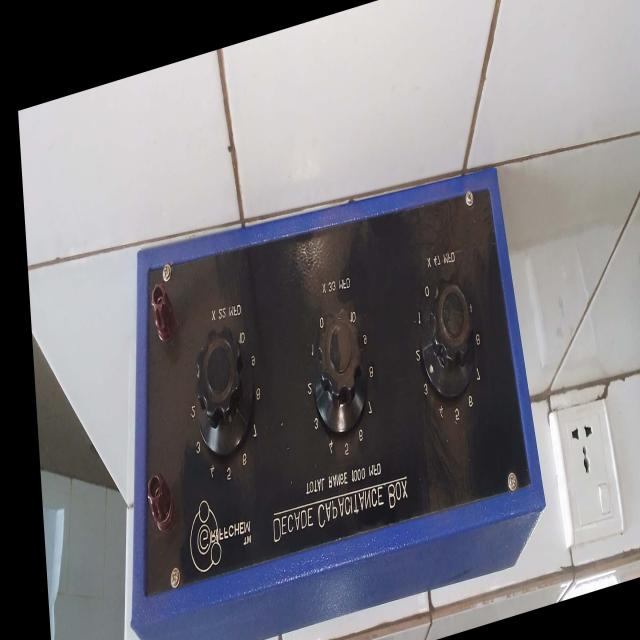Decade Capacitor Box: (105, 118, 555, 640)
